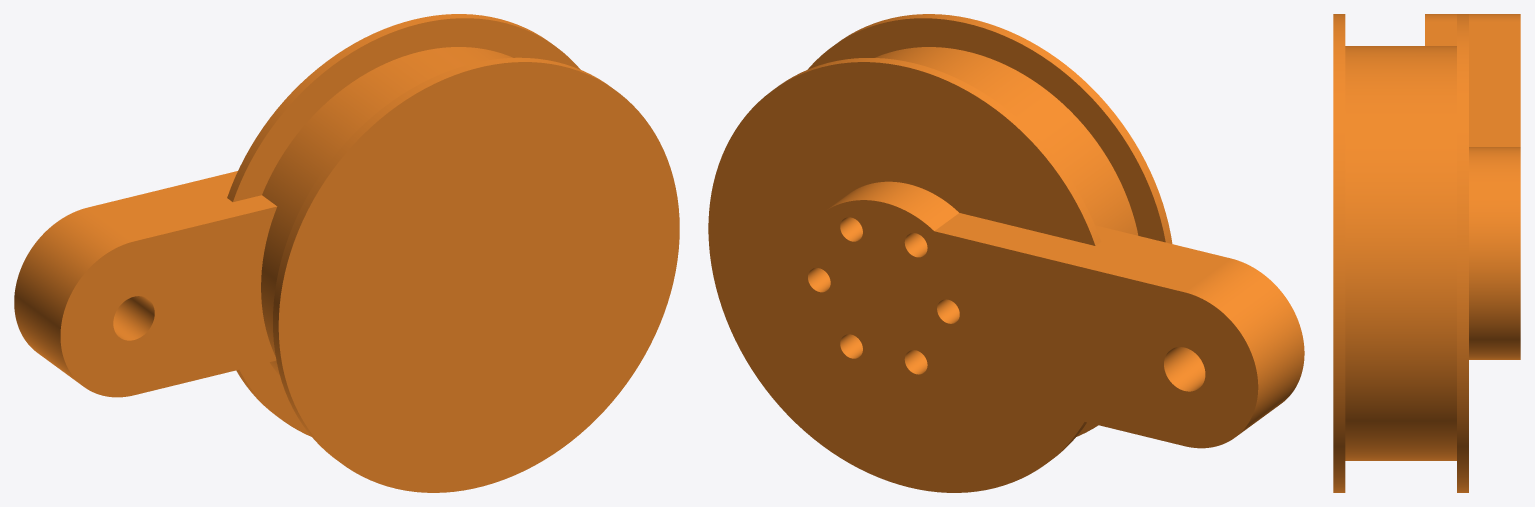
The model's file is crank.glb.
3 renders of one model, left to right at view 1: azimuth 30°, elevation 25°; view 2: azimuth 150°, elevation 25°; view 3: azimuth 270°, elevation 25°, orthographic. The views are drawn at different scales.
Parts seen in each view (by area): view 1: crank (printed); view 2: crank (printed); view 3: crank (printed).
Boxes of the visible parts, x1,y1,x2,y2 form: crank (printed): [14, 14, 679, 492]; crank (printed): [708, 14, 1304, 492]; crank (printed): [1333, 14, 1520, 492].
Bounding box in the file's own units: 0.086 × 0.06 × 0.0235.
